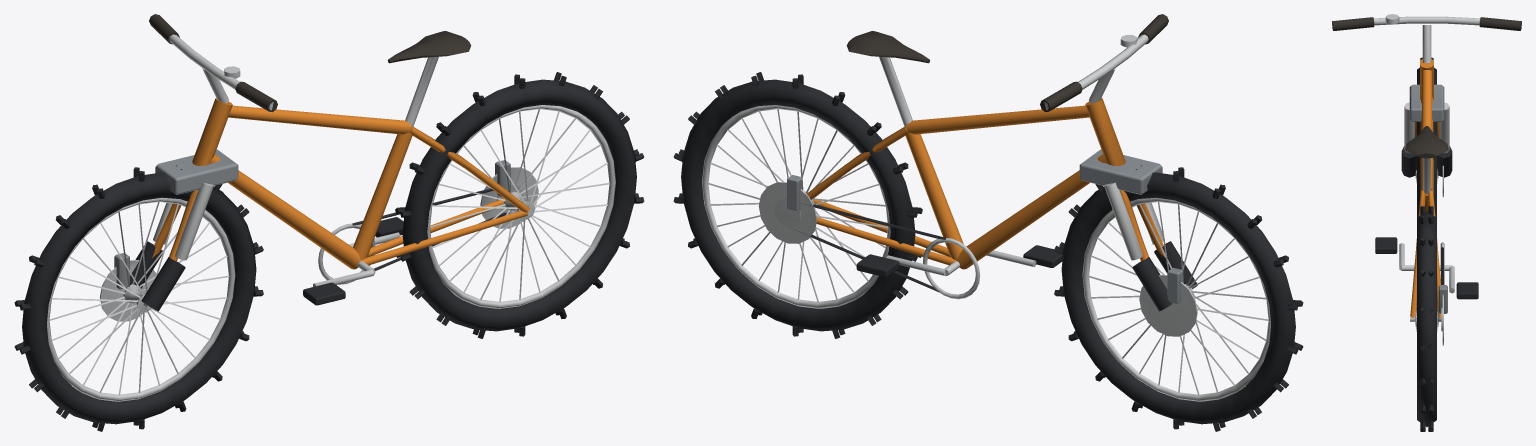
Rendered from mountainBike.glb.
3 views of the same model, side by side, from view 1: azimuth 30°, elevation 25°; view 2: azimuth 150°, elevation 25°; view 3: azimuth 270°, elevation 25° (orthographic). The views are drawn at different scales.
Parts seen in each view (by area): view 1: frame, wheel_rear, wheel_front, cranks; view 2: frame, wheel_rear, wheel_front, cranks; view 3: frame, wheel_rear, cranks, wheel_front.
Boxes of the visible parts, bbox=[...] form: frame: bbox=[99, 14, 538, 321]; wheel_rear: bbox=[395, 72, 644, 338]; wheel_front: bbox=[14, 165, 263, 431]; cranks: bbox=[303, 217, 403, 305]; frame: bbox=[758, 14, 1197, 336]; wheel_rear: bbox=[673, 72, 922, 338]; wheel_front: bbox=[1054, 165, 1303, 431]; cranks: bbox=[856, 238, 1062, 299]; frame: bbox=[1332, 14, 1521, 345]; wheel_rear: bbox=[1410, 206, 1441, 431]; cranks: bbox=[1375, 237, 1478, 299]; wheel_front: bbox=[1415, 57, 1438, 217].
Size of the model in its own units: 1.83 by 0.9982 by 0.6052.
